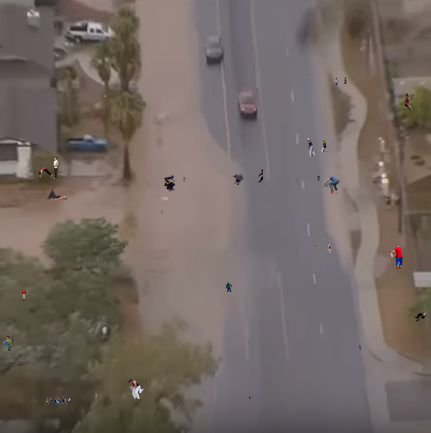Human: (231, 169, 263, 185), (164, 175, 194, 192), (37, 157, 59, 179), (307, 138, 328, 157), (128, 379, 145, 402), (387, 246, 403, 269), (323, 176, 340, 194), (46, 190, 72, 200), (295, 175, 320, 185), (45, 396, 71, 405), (311, 243, 331, 253), (404, 93, 412, 117), (3, 335, 15, 351), (414, 312, 427, 322), (335, 77, 347, 85), (226, 282, 232, 292), (22, 288, 26, 301), (309, 77, 313, 81), (249, 396, 252, 400), (95, 393, 97, 399), (359, 345, 361, 350), (104, 95, 106, 100), (161, 210, 163, 215), (210, 401, 213, 404), (122, 246, 125, 249)
